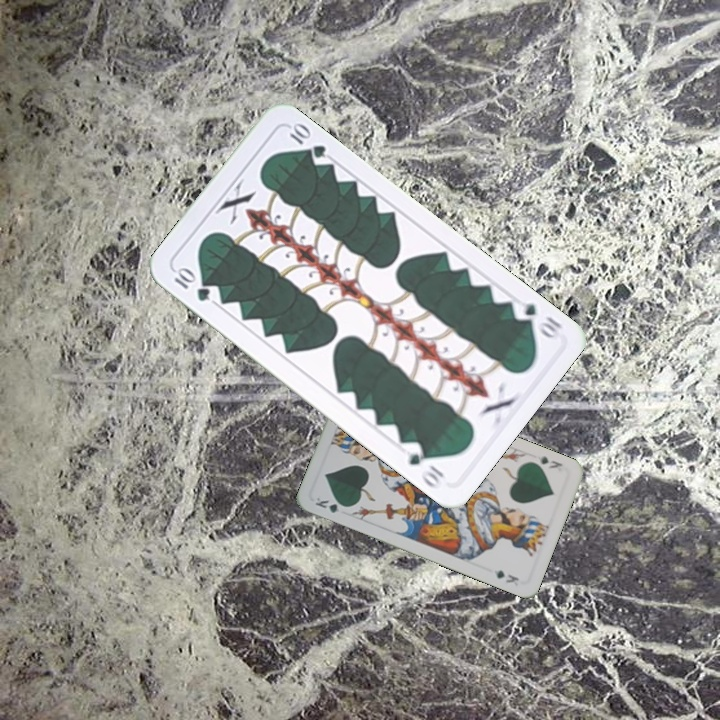G10: (507, 295, 565, 341), (170, 262, 213, 304)
GK: (311, 493, 351, 515), (533, 452, 565, 471)
